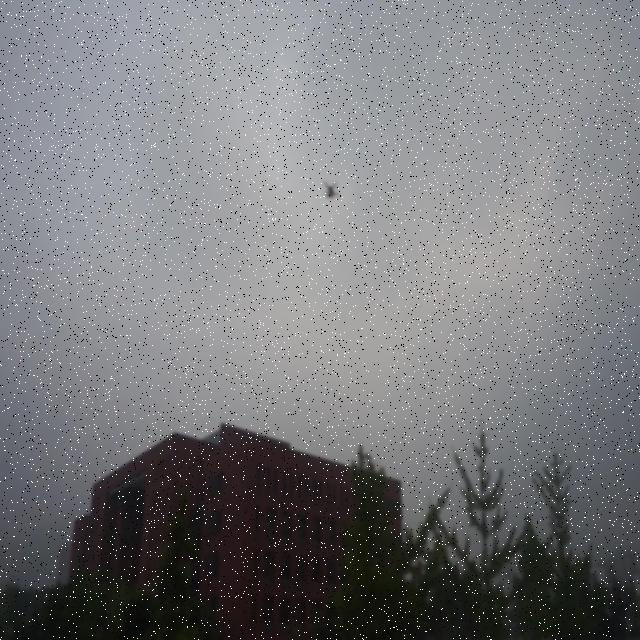UAV: (322, 180, 340, 200)
